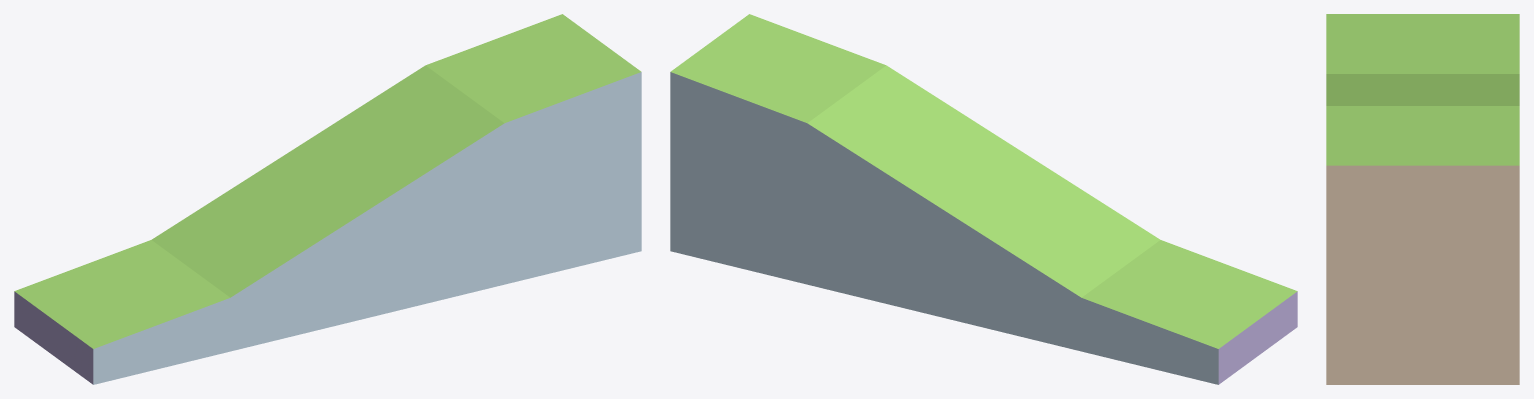
Rendered from Grass_Hill_Gentle_Straight_1x4.glb.
3 views of the same model, side by side, from view 1: azimuth 30°, elevation 25°; view 2: azimuth 150°, elevation 25°; view 3: azimuth 270°, elevation 25° (orthographic). The views are drawn at different scales.
Parts seen in each view (by area): view 1: Grass_Hill_Gentle_Straight_1x4; view 2: Grass_Hill_Gentle_Straight_1x4; view 3: Grass_Hill_Gentle_Straight_1x4.
Boxes of the visible parts, box(x1,y1,x2,y2) form: Grass_Hill_Gentle_Straight_1x4: box(14, 14, 641, 384); Grass_Hill_Gentle_Straight_1x4: box(670, 14, 1297, 384); Grass_Hill_Gentle_Straight_1x4: box(1326, 14, 1519, 384).
Bounding box in the file's own units: 400 × 125 × 100.
